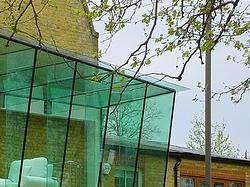chair: (0, 156, 57, 187)
